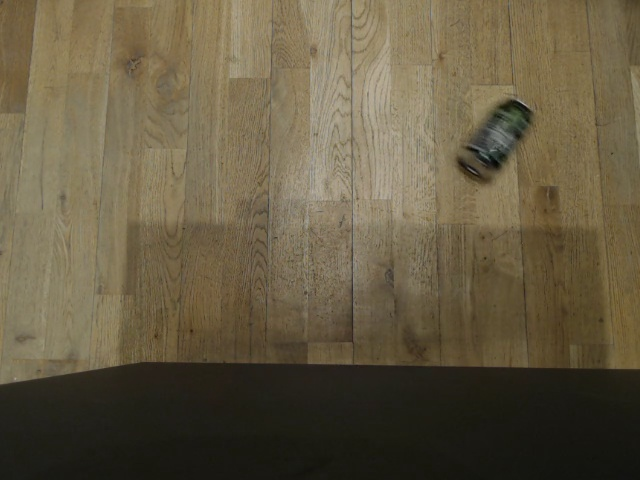beer: (454, 99, 534, 182)
